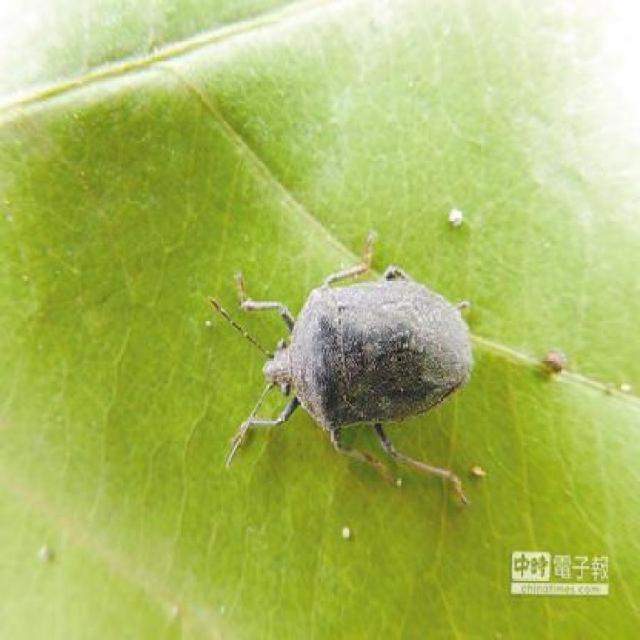rice-bug: (222, 242, 493, 493)
